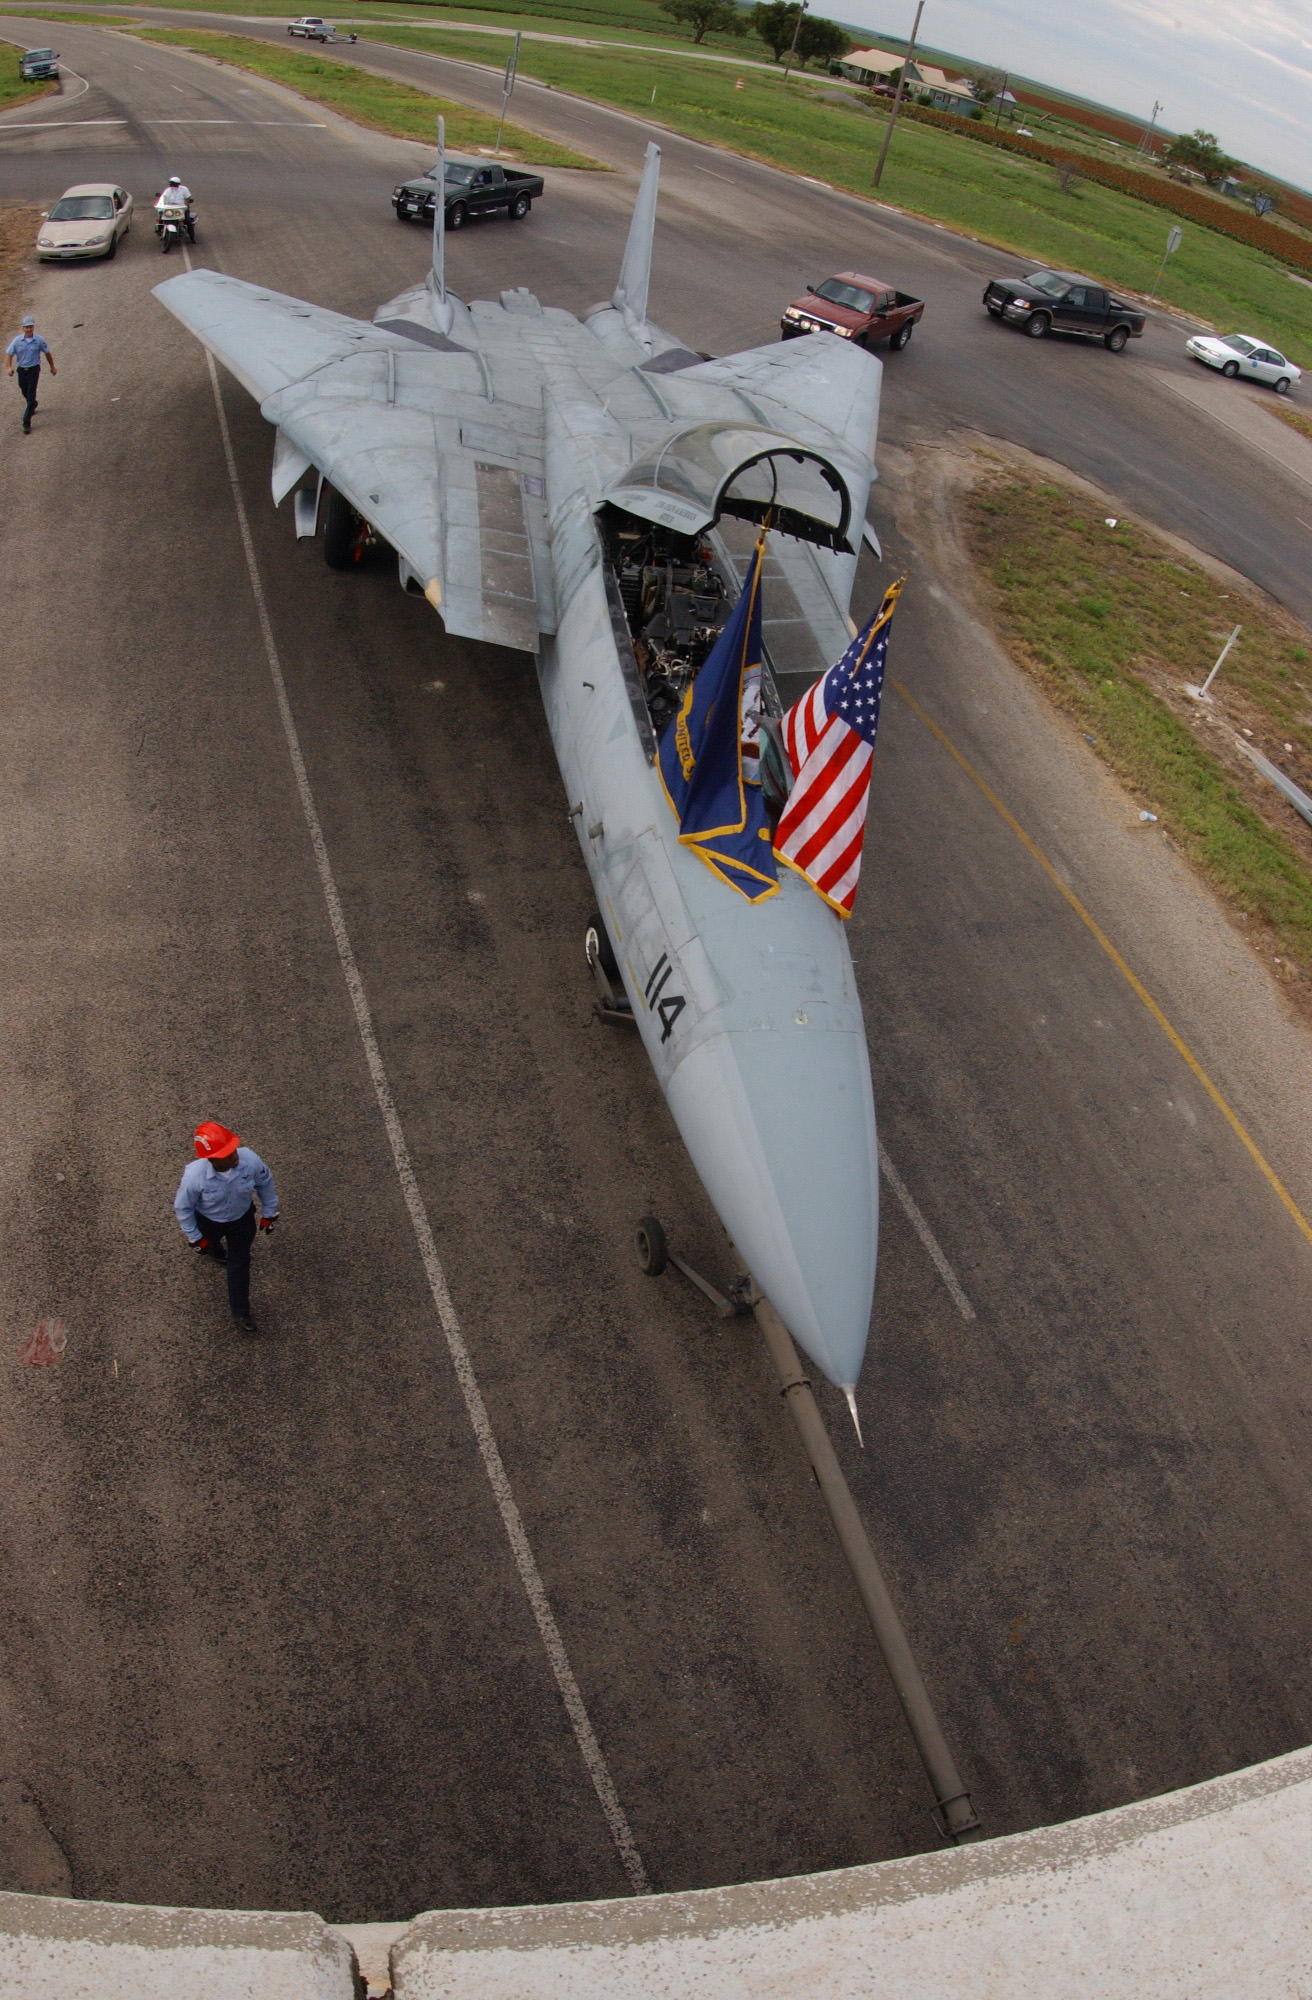F14: (149, 113, 881, 1449)
